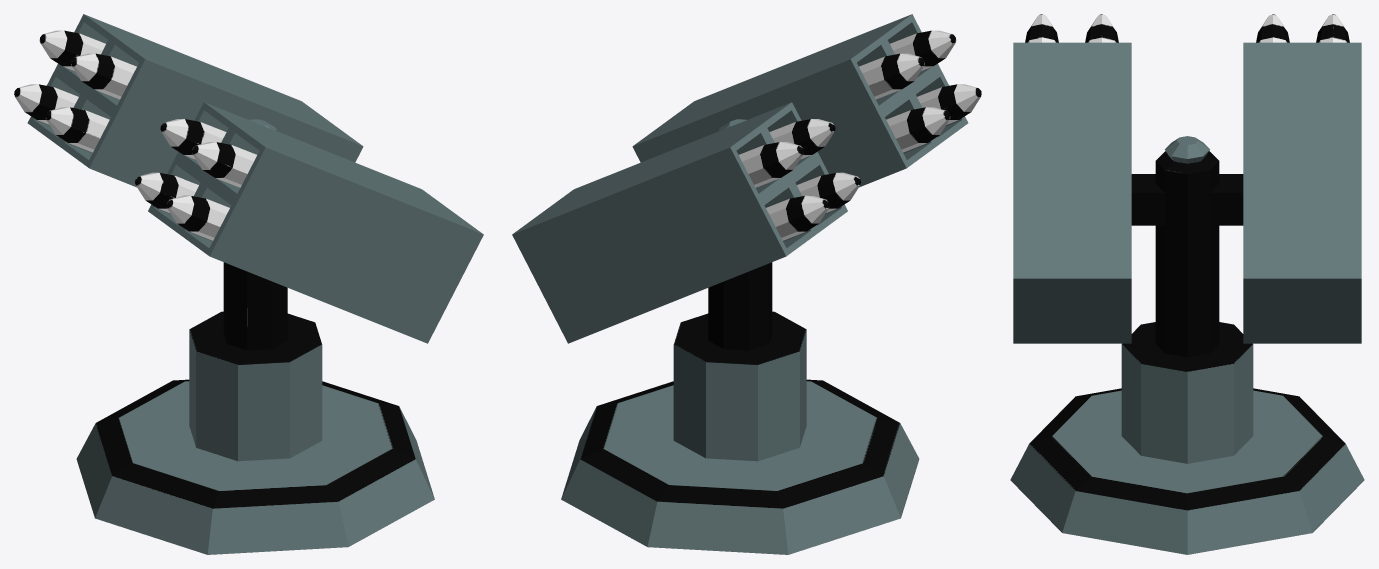
Rendered from Lanza Misiles.fbx.
3 renders of one model, left to right at view 1: azimuth 30°, elevation 25°; view 2: azimuth 150°, elevation 25°; view 3: azimuth 270°, elevation 25°, orthographic. The views are drawn at different scales.
Visible parts, largest first — view 1: PortaMisiles, TorretaMisiles, Misiles, Torno; view 2: PortaMisiles, TorretaMisiles, Misiles, Torno; view 3: PortaMisiles, TorretaMisiles, Torno, Misiles.
Part boxes in pixels (<box>): PortaMisiles: <box>27,14,483,343</box>; TorretaMisiles: <box>76,311,434,554</box>; Misiles: <box>14,30,256,240</box>; Torno: <box>223,119,287,350</box>; PortaMisiles: <box>512,14,968,343</box>; TorretaMisiles: <box>561,311,919,554</box>; Misiles: <box>739,30,981,240</box>; Torno: <box>708,119,772,350</box>; PortaMisiles: <box>1013,42,1361,343</box>; TorretaMisiles: <box>1010,322,1364,554</box>; Torno: <box>1131,136,1243,357</box>; Misiles: <box>1025,14,1349,42</box>.
Size of the model in its own units: 203 by 251 by 200.
4 materials, 4 textured.
